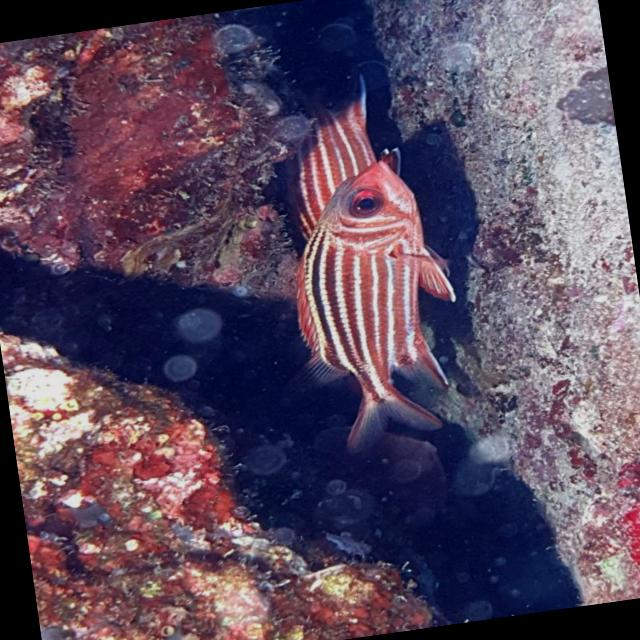Asker Baligi: (259, 142, 488, 467)
